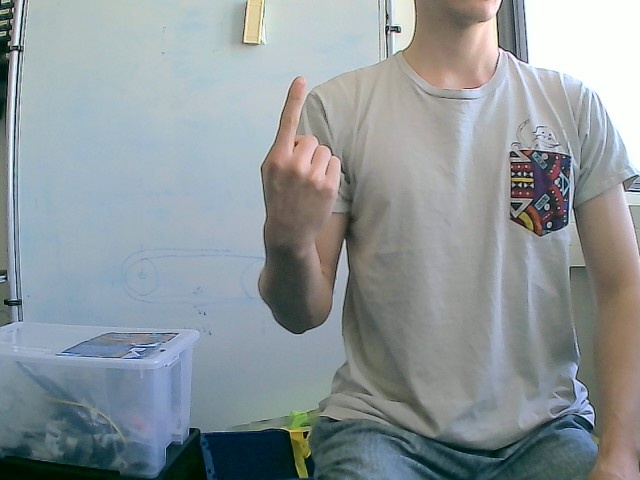up: (259, 75, 343, 249)
